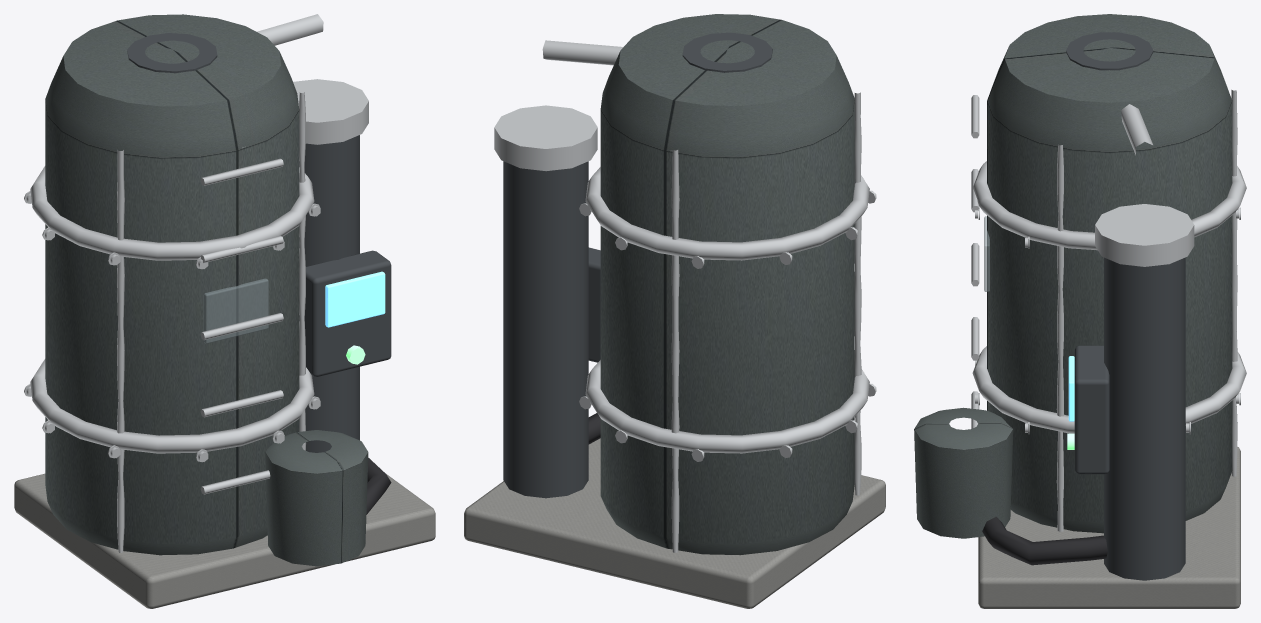
The model's file is fps-survival-forest-outpost-water-purifier-b566db3e__32626.glb.
The picture shows the model from 3 angles, left to right: view 1: azimuth 30°, elevation 25°; view 2: azimuth 150°, elevation 25°; view 3: azimuth 270°, elevation 25°; orthographic projection. The views are drawn at different scales.
Visible parts, largest first — view 1: water-purifier; view 2: water-purifier; view 3: water-purifier.
Boxes of the visible parts, bbox=[...] form: water-purifier: bbox=[14, 14, 435, 608]; water-purifier: bbox=[464, 14, 885, 608]; water-purifier: bbox=[914, 14, 1246, 608].
Bounding box in the file's own units: 1.28 × 1.78 × 1.14.
8 materials, 2 textured.
